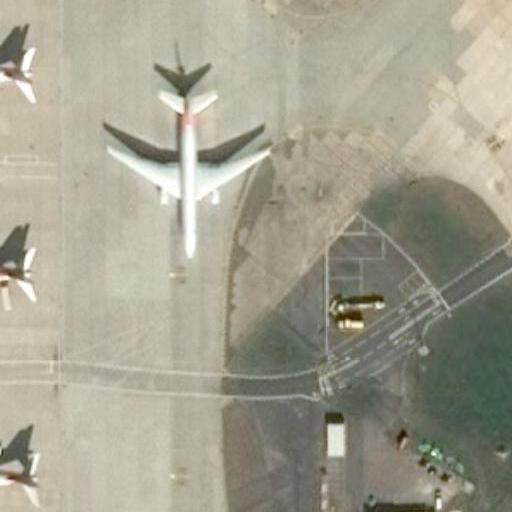Aircraft: (96, 75, 270, 266), (0, 194, 48, 354), (0, 0, 46, 152), (0, 391, 49, 512)
